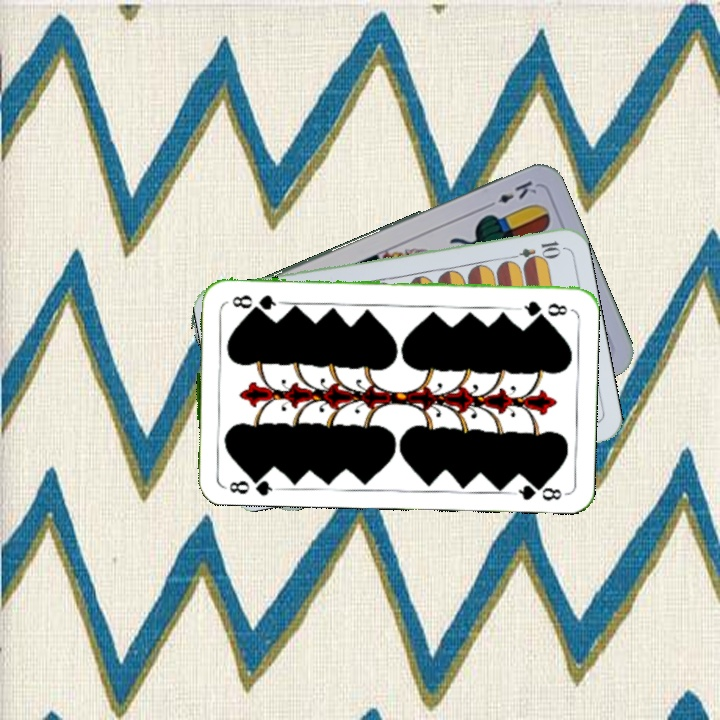E10: (504, 237, 563, 264)
EK: (481, 176, 540, 211)
G8: (219, 470, 275, 497), (514, 297, 570, 319)
